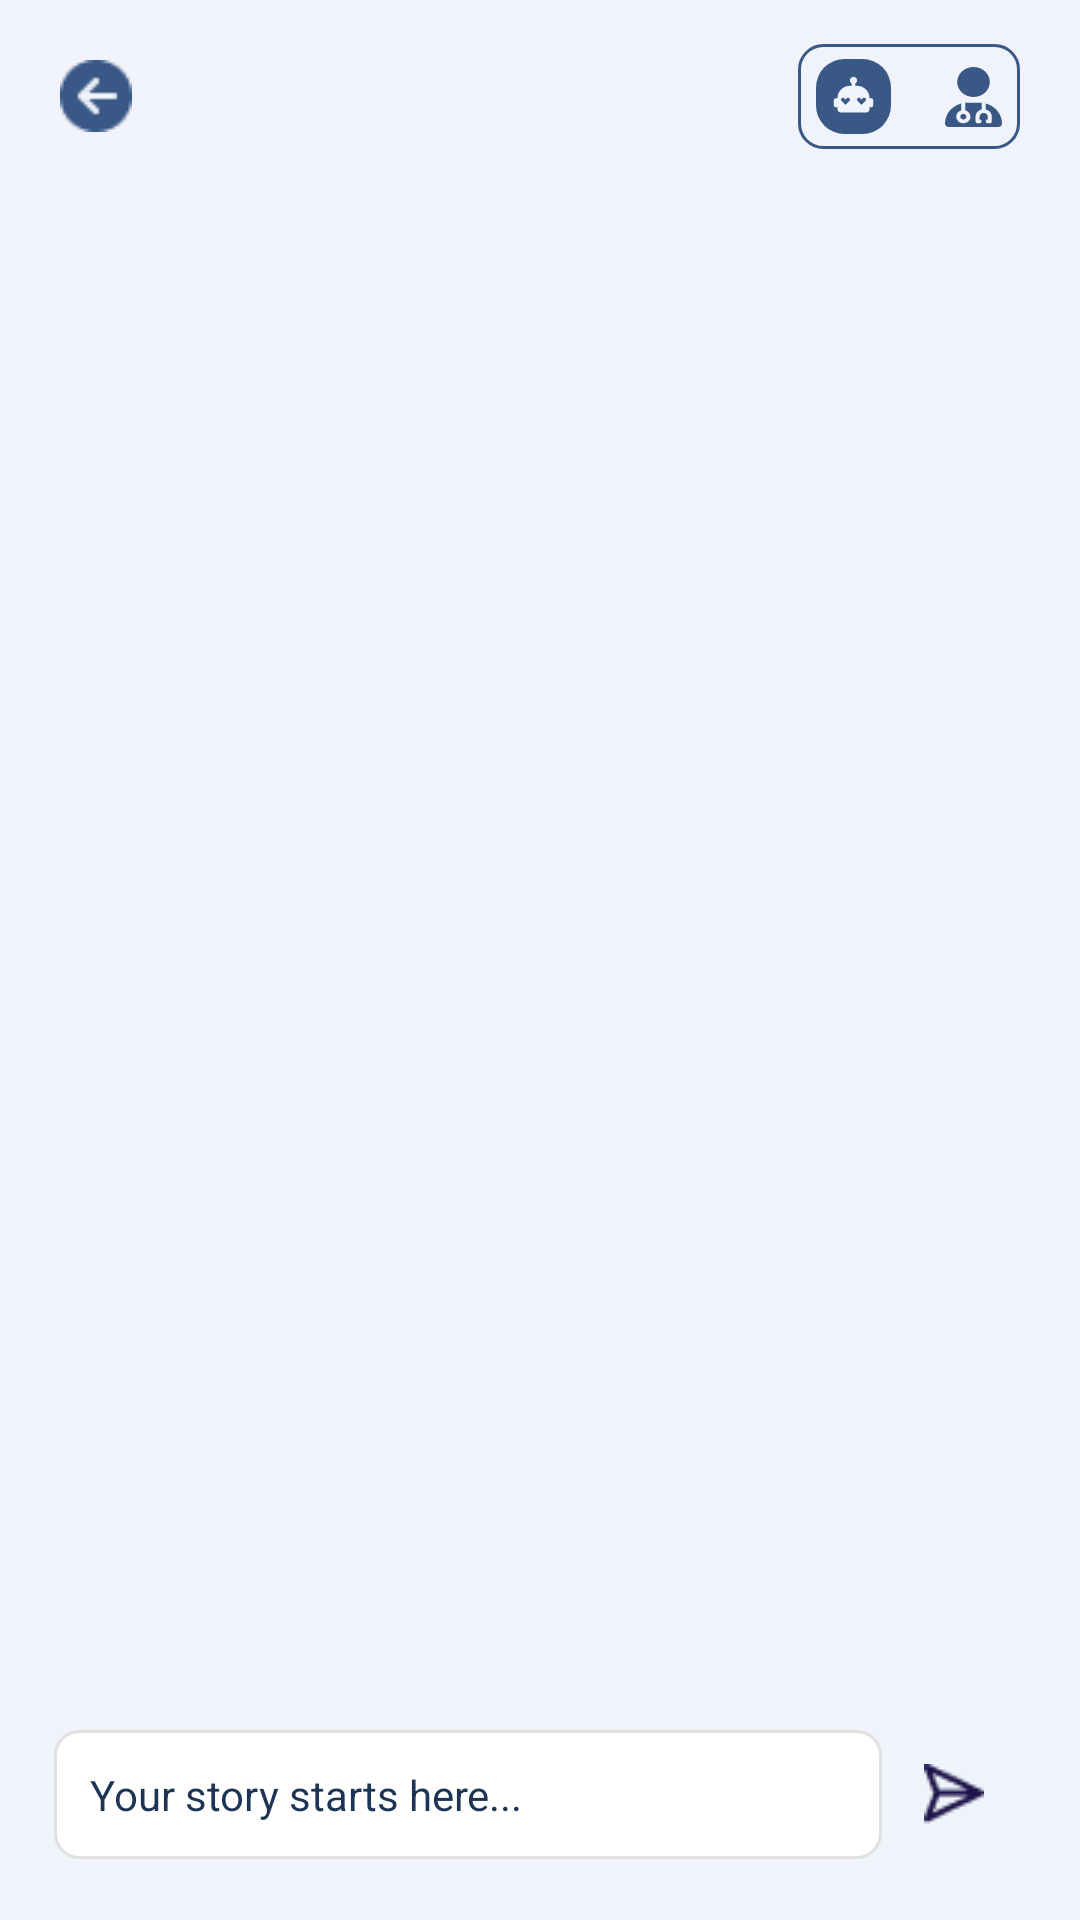

Icons on this 1080px x 1920px Android screen, each with its box as (x1, y1, x2, y2):
back: (60, 60, 132, 132)
send: (924, 1764, 984, 1824)
